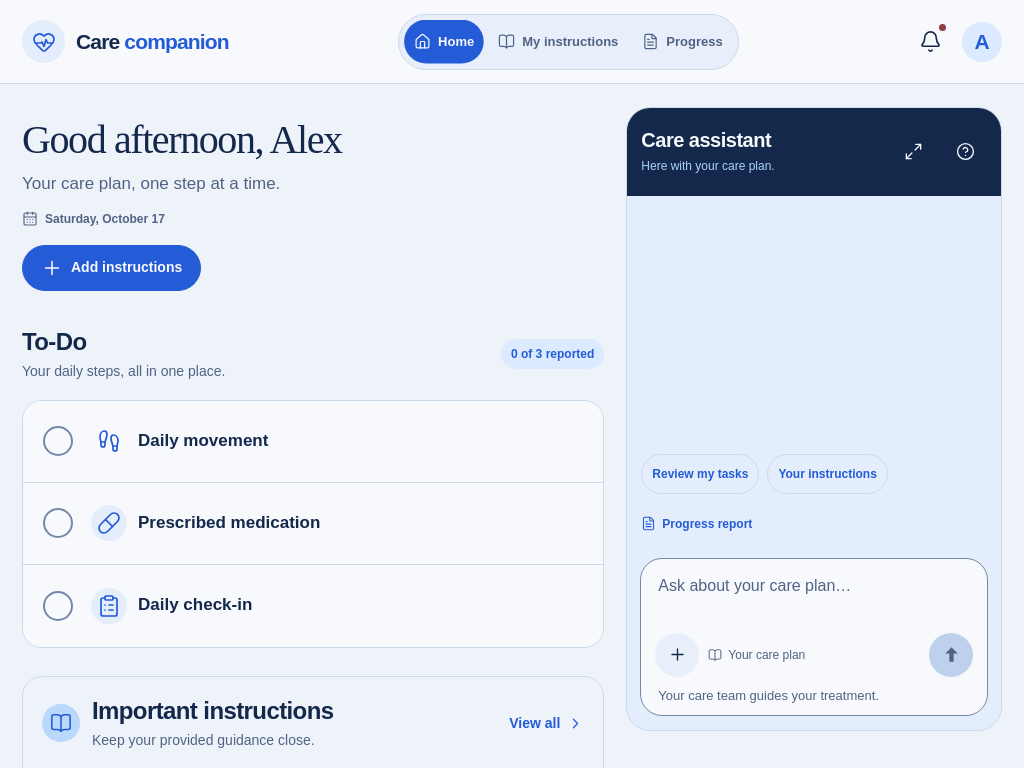
Scenario: shows action failure inside the active modal
Click the button "Prescribed medication" at (229, 522), box [138,501,590,545]
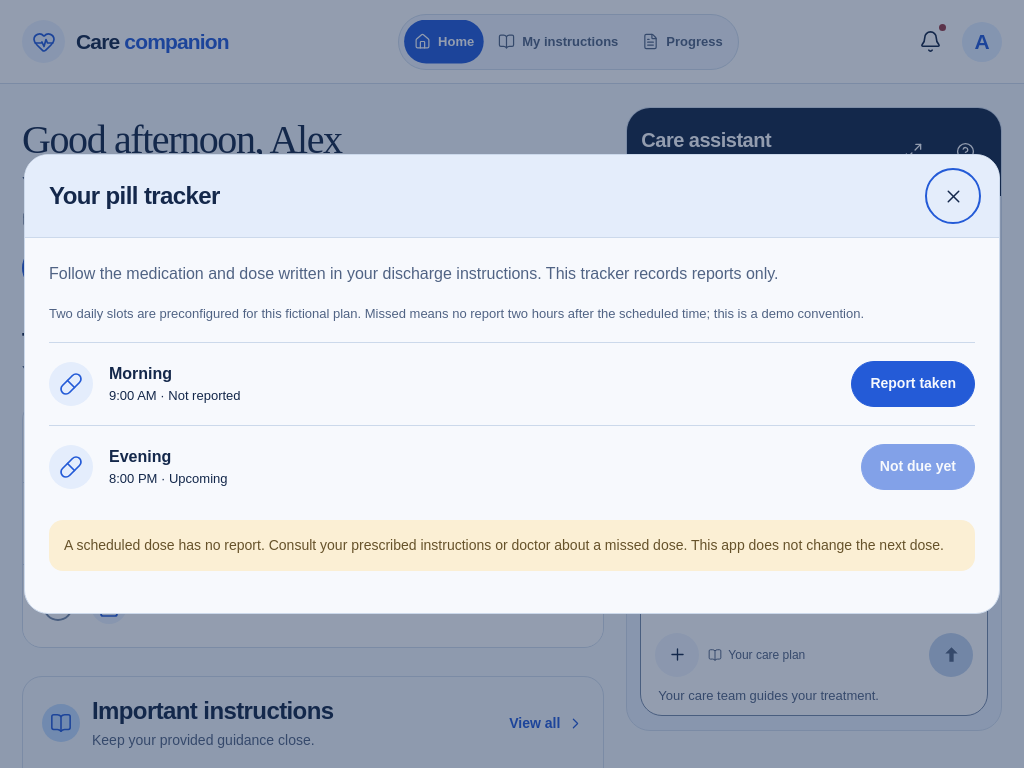
Check: the button "Report taken" is shown
Click the button "Report taken" at (913, 384), box [851,361,975,407]
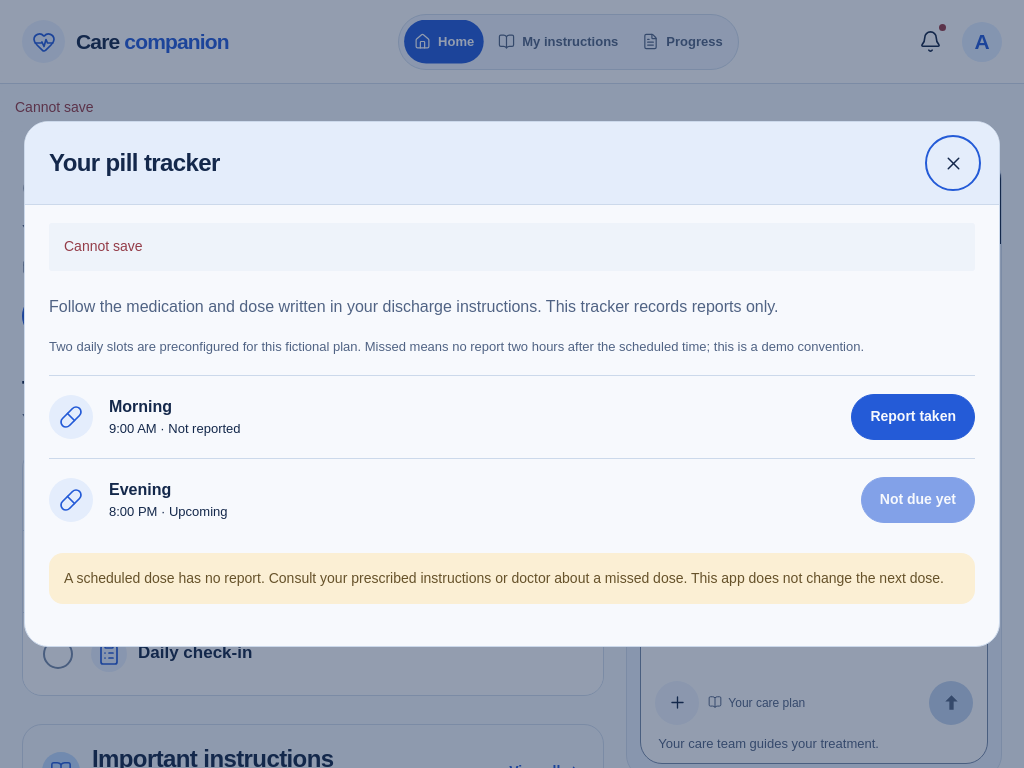
Check: the message "Cannot save" below "Your pill tracker" is shown, box [64,238,143,254]
